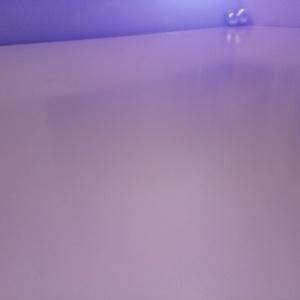alive_ball: (236, 8, 250, 26), (225, 12, 239, 27)
